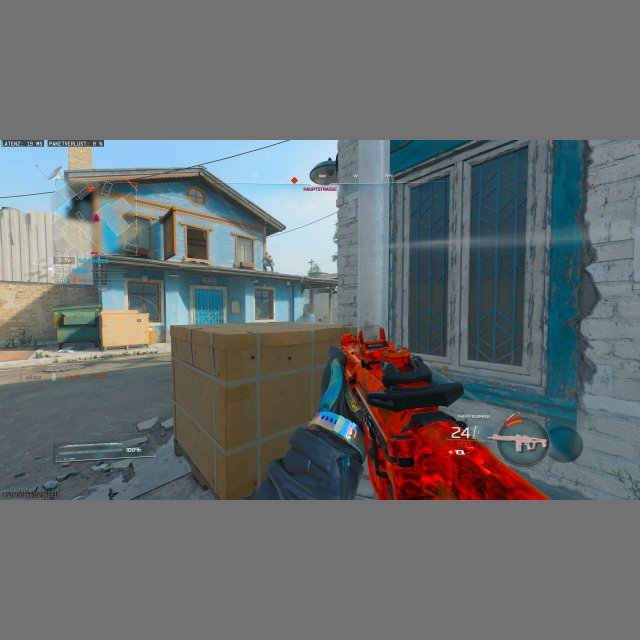player: (263, 253, 273, 271)
